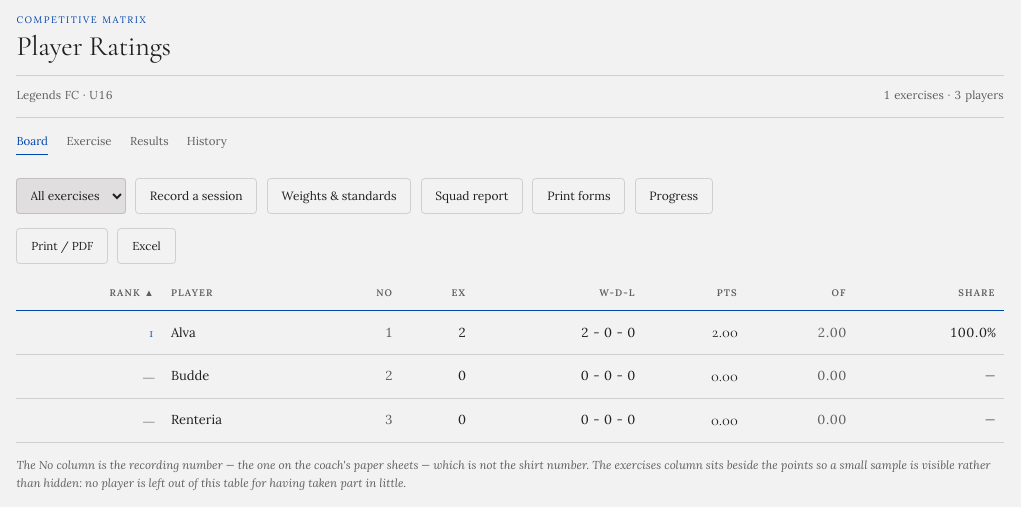
Test case: recording a session › offers the pairing route for a 1v1, not the session one
Step 1. Select "One v One" in the dropdown named "Exercise" → (71, 196), box [16, 178, 126, 214]
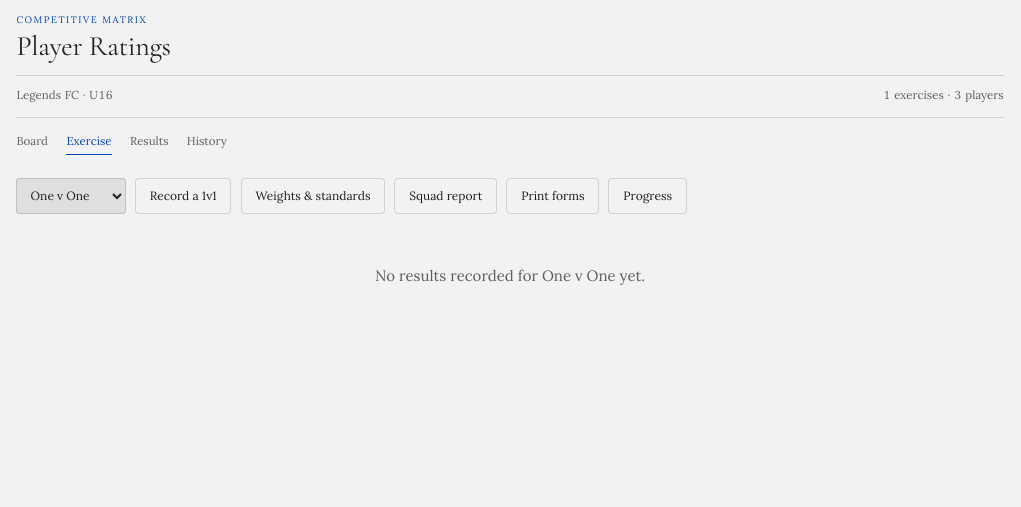
Check: the button "Record a 1v1" is shown, box [135, 178, 231, 214]
